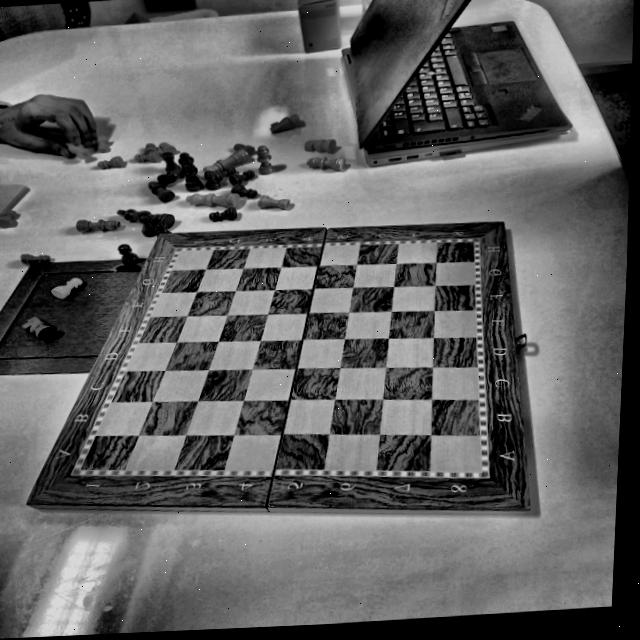chessboard: (25, 220, 530, 507)
